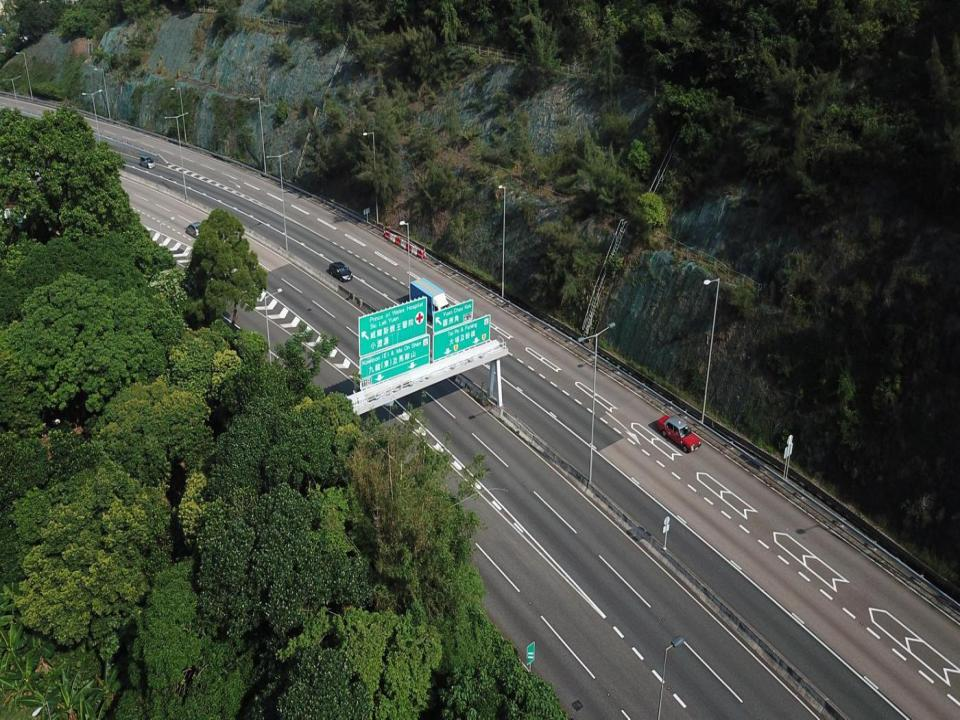car: (656, 414, 702, 453), (327, 260, 353, 284), (185, 221, 204, 239), (138, 154, 158, 169)
truck: (409, 277, 452, 327)
